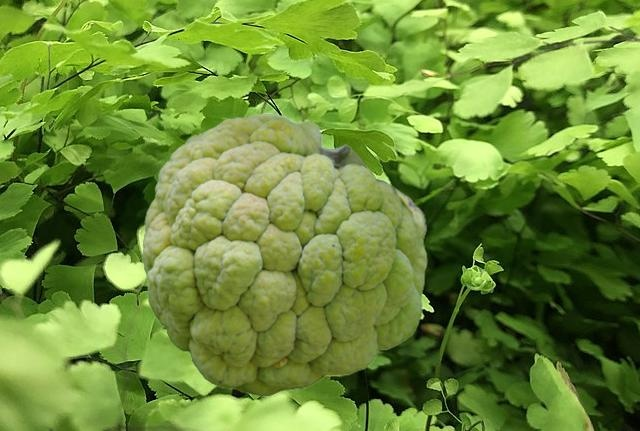atis: (142, 113, 426, 395)
